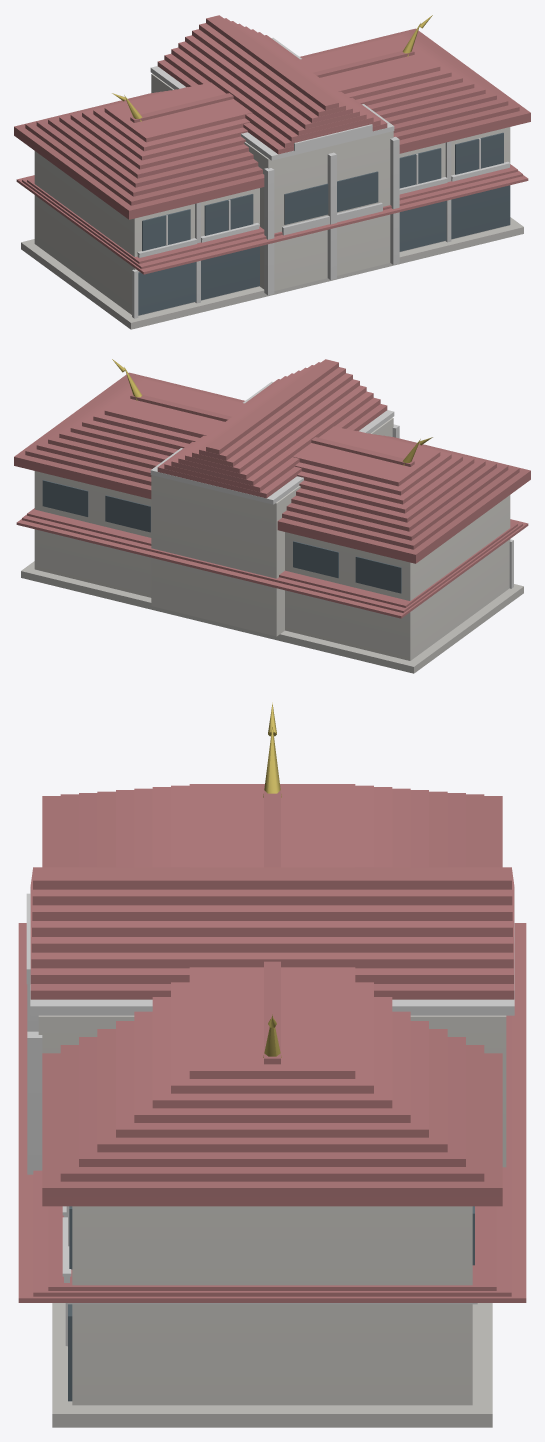
The model's file is annex-block-bare.glb.
3 views of the same model, one above another, from view 1: azimuth 30°, elevation 25°; view 2: azimuth 150°, elevation 25°; view 3: azimuth 270°, elevation 25° (orthographic). The views are drawn at different scales.
Size of the model in its own units: 27.8 by 12.42 by 15.2.
